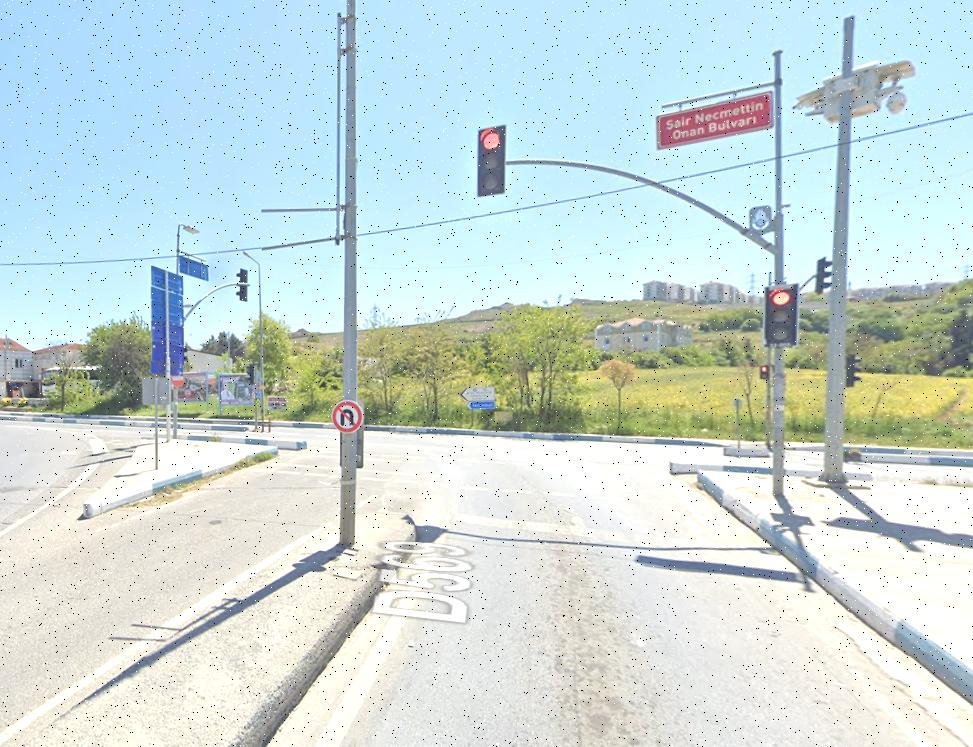redlight: (477, 126, 507, 193), (766, 285, 792, 344)
